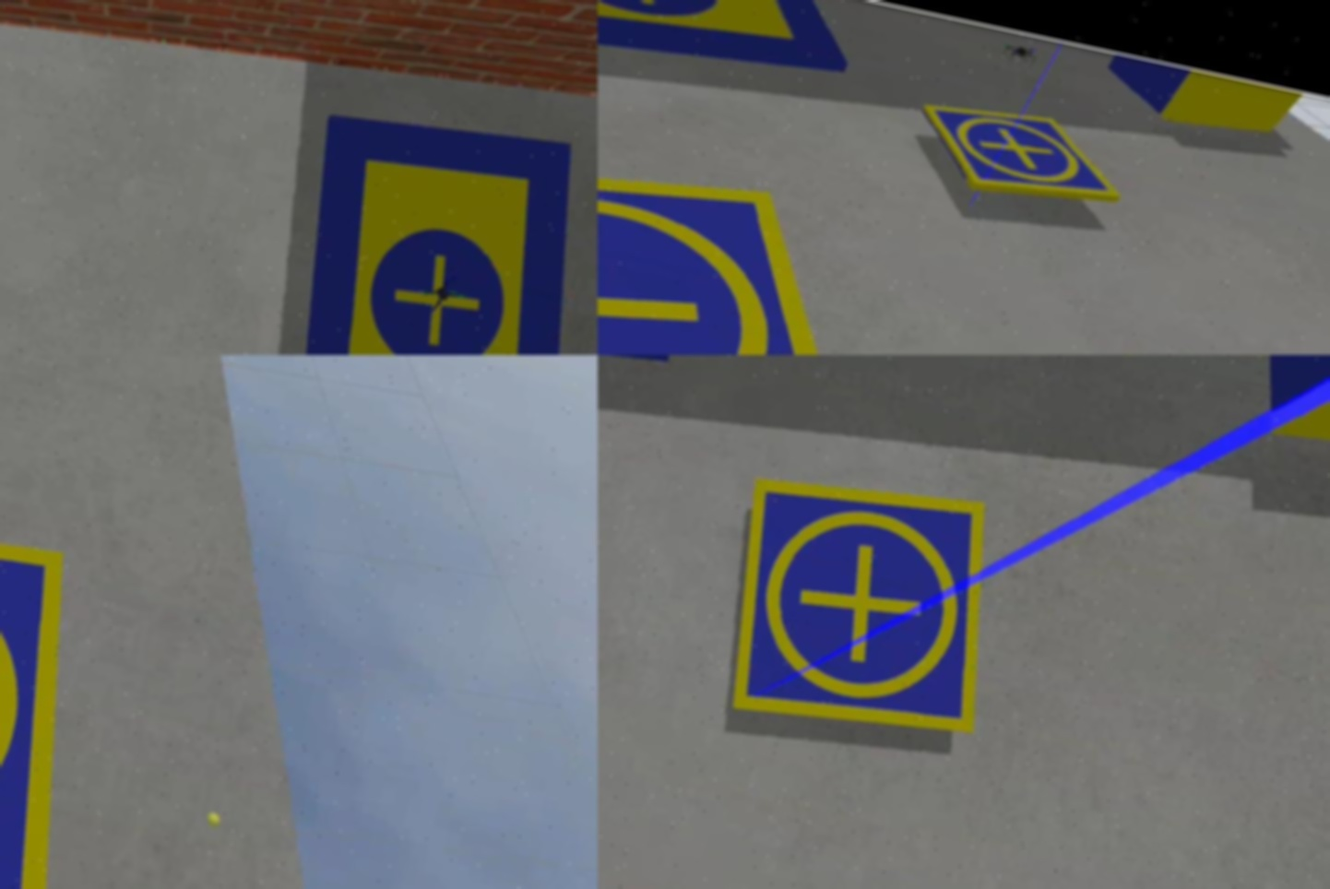large_base: (253, 95, 598, 356), (598, 1, 866, 108)
small_base: (710, 457, 1026, 760), (598, 96, 927, 356), (912, 91, 1137, 217)
